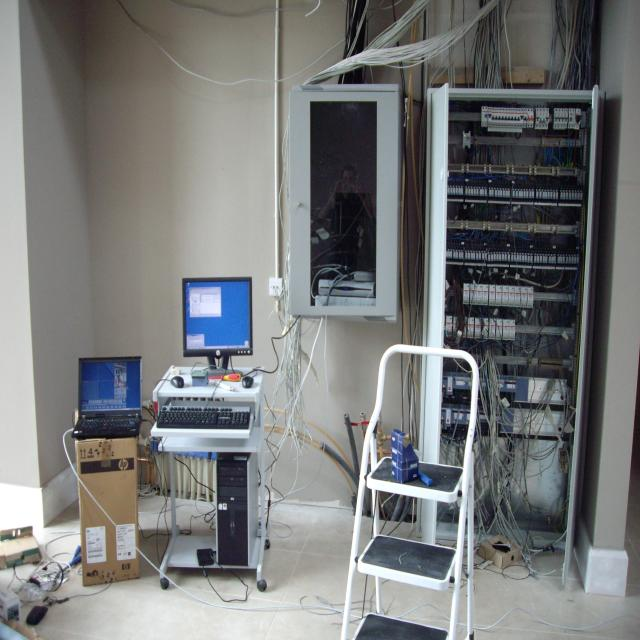Dimmer: (463, 283, 470, 304), (470, 284, 477, 305), (467, 317, 474, 338), (482, 285, 489, 305), (495, 286, 502, 306), (501, 286, 508, 306), (508, 287, 515, 307), (514, 287, 521, 307), (520, 287, 527, 307), (489, 319, 496, 339), (496, 320, 503, 340), (452, 317, 459, 337), (527, 288, 534, 307), (476, 284, 482, 305), (482, 318, 488, 339), (489, 286, 495, 306), (509, 320, 515, 340), (503, 320, 509, 340), (475, 318, 481, 338), (446, 316, 452, 336), (462, 317, 467, 338)
FI: (481, 106, 488, 126), (527, 108, 534, 128)
Leitungsschutzschalter: (575, 109, 581, 129), (535, 108, 540, 129), (557, 108, 562, 129), (560, 108, 565, 129), (563, 108, 568, 129), (568, 108, 573, 128), (539, 108, 543, 129), (542, 108, 546, 129), (545, 108, 549, 129), (554, 108, 558, 129), (491, 107, 495, 127), (494, 107, 498, 127), (510, 108, 514, 128), (517, 108, 521, 128), (520, 108, 524, 128), (523, 108, 527, 128), (500, 108, 504, 127), (504, 108, 508, 127), (507, 108, 511, 127), (571, 109, 575, 128), (498, 107, 501, 127), (514, 108, 517, 128), (488, 107, 491, 126)
Relais: (505, 190, 508, 198), (550, 191, 553, 199), (574, 192, 577, 200), (577, 192, 580, 200), (511, 254, 514, 262), (516, 254, 519, 262), (447, 188, 450, 195), (450, 188, 453, 195), (460, 188, 463, 195), (465, 188, 468, 195), (476, 189, 479, 196), (497, 190, 500, 197), (512, 191, 515, 198), (523, 191, 526, 198), (529, 191, 532, 198), (539, 191, 542, 198), (542, 192, 545, 199), (547, 192, 550, 199), (571, 192, 574, 199), (580, 193, 583, 200), (453, 252, 456, 259), (455, 252, 458, 259), (470, 253, 473, 260), (478, 253, 481, 260), (496, 254, 499, 261), (504, 254, 507, 261), (524, 255, 527, 262), (527, 256, 530, 263), (548, 256, 551, 263), (553, 256, 556, 263), (568, 256, 571, 263), (491, 190, 494, 196), (465, 253, 468, 259), (551, 257, 554, 263), (562, 257, 565, 263), (565, 257, 568, 263), (571, 257, 574, 263), (569, 192, 571, 200), (508, 254, 510, 262), (453, 188, 455, 195), (456, 188, 458, 195), (458, 188, 460, 195), (474, 189, 476, 196), (482, 189, 484, 196), (480, 189, 482, 196), (485, 189, 487, 196), (489, 190, 491, 197), (495, 190, 497, 197), (500, 190, 502, 197), (503, 190, 505, 197), (508, 191, 510, 198), (516, 191, 518, 198), (519, 191, 521, 198), (521, 191, 523, 198), (526, 191, 528, 198), (532, 191, 534, 198), (536, 191, 538, 198), (545, 192, 547, 199), (553, 192, 555, 199), (556, 192, 558, 199), (561, 192, 563, 199), (563, 192, 565, 199), (566, 192, 568, 199), (446, 251, 448, 258), (448, 251, 450, 258), (450, 251, 452, 258), (459, 252, 461, 259), (461, 252, 463, 259), (468, 253, 470, 260), (473, 253, 475, 260), (476, 253, 478, 260), (482, 253, 484, 260), (485, 253, 487, 260), (488, 254, 490, 261), (491, 254, 493, 261), (494, 254, 496, 261), (499, 254, 501, 261), (502, 254, 504, 261), (514, 255, 516, 262), (519, 255, 521, 262), (522, 255, 524, 262), (530, 256, 532, 263), (534, 256, 536, 263), (537, 256, 539, 263), (540, 256, 542, 263), (543, 256, 545, 263), (468, 189, 470, 195), (471, 189, 473, 195), (545, 257, 547, 263), (558, 257, 560, 263), (560, 257, 562, 263), (574, 257, 576, 263), (577, 257, 579, 263)
SPS_System_Steuerungskomponente: (442, 375, 453, 395), (452, 408, 464, 425), (441, 408, 451, 427), (476, 410, 490, 423), (453, 376, 465, 389), (504, 380, 517, 392), (479, 378, 489, 390), (465, 377, 473, 390), (497, 379, 504, 392), (464, 410, 470, 425), (496, 412, 502, 423)
netzteile: (463, 131, 470, 149)
